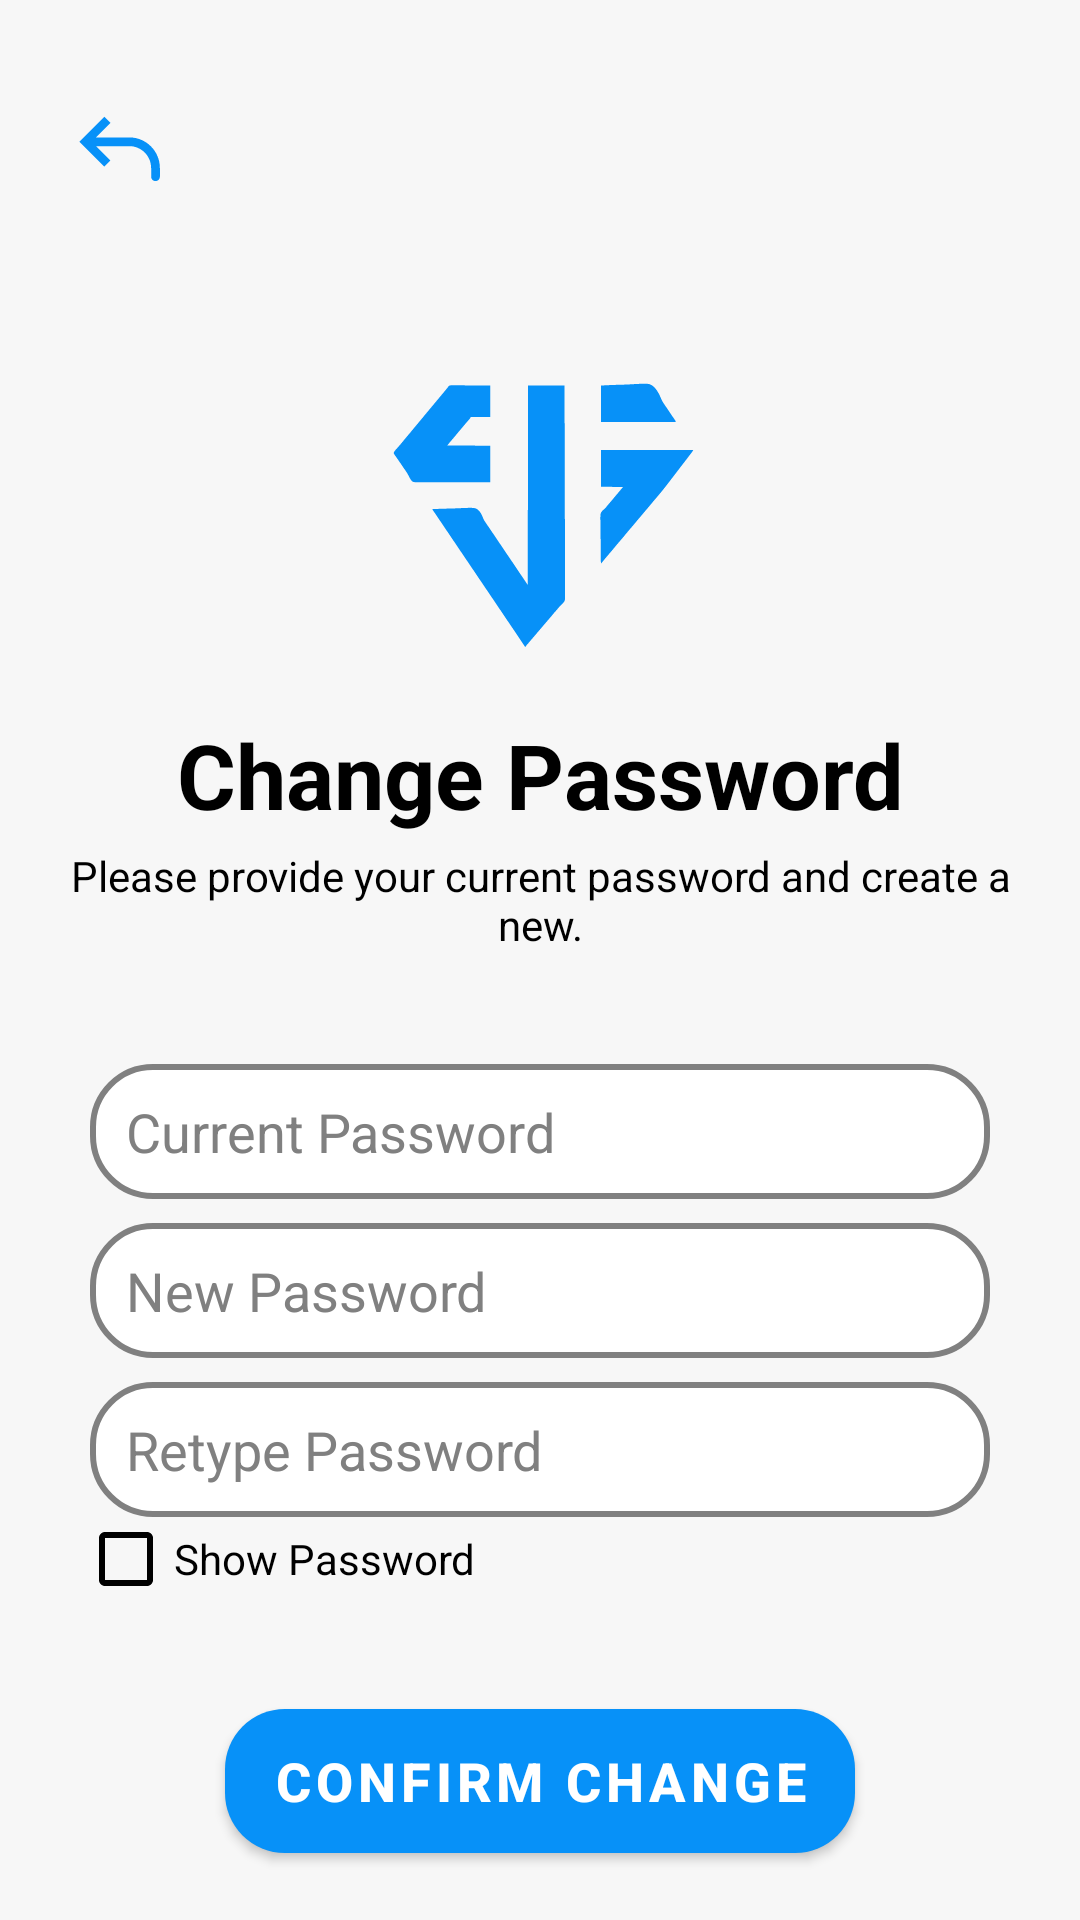

Where to tap for icons on this 1080*1920 app screen, as (x,y):
back: (119,149)
